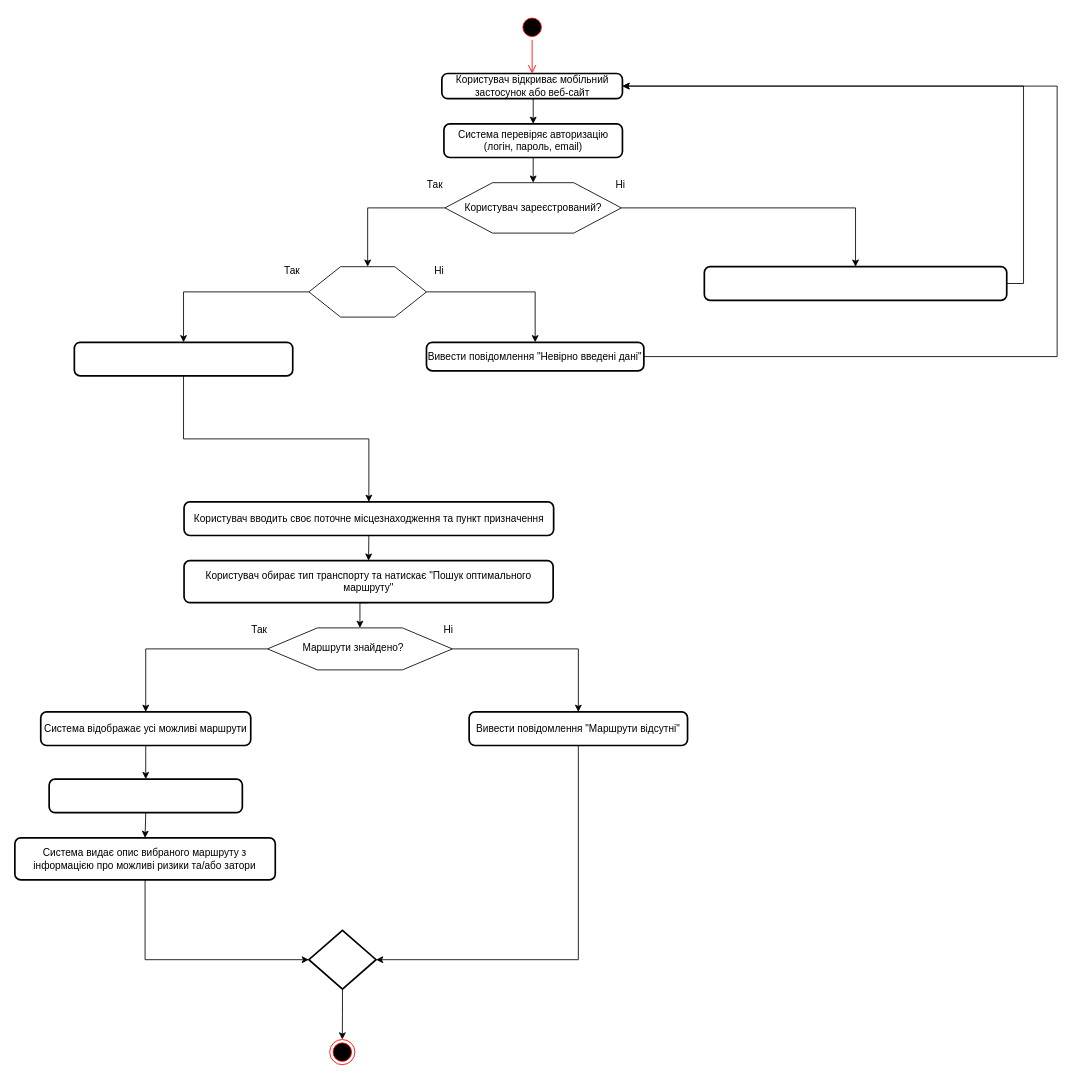
Image size: 1079x1079. Some labels were removed from this diagram. The centre of each missing label's shape, as x and y in pixels:
Вивести повідомлення "Незареєстрований користувач": pixel 855 283
Дані введено вірно?: pixel 367 291
Користувач обирає потрібний маршрут: pixel 145 795
Перекидання користувача на головне меню: pixel 183 358
